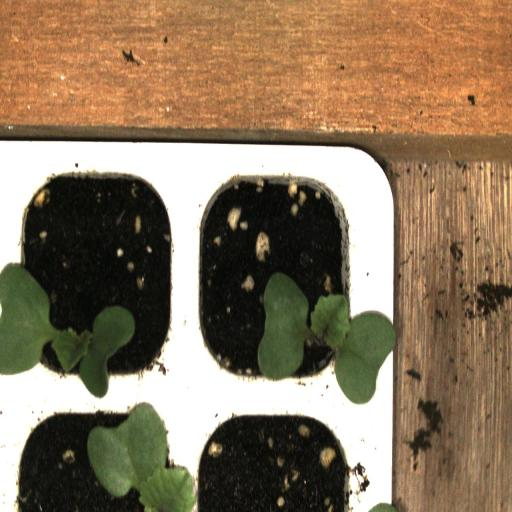Folha: (257, 272, 396, 404), (87, 404, 196, 512)
Germinacao: (10, 144, 195, 398), (192, 152, 364, 399)
